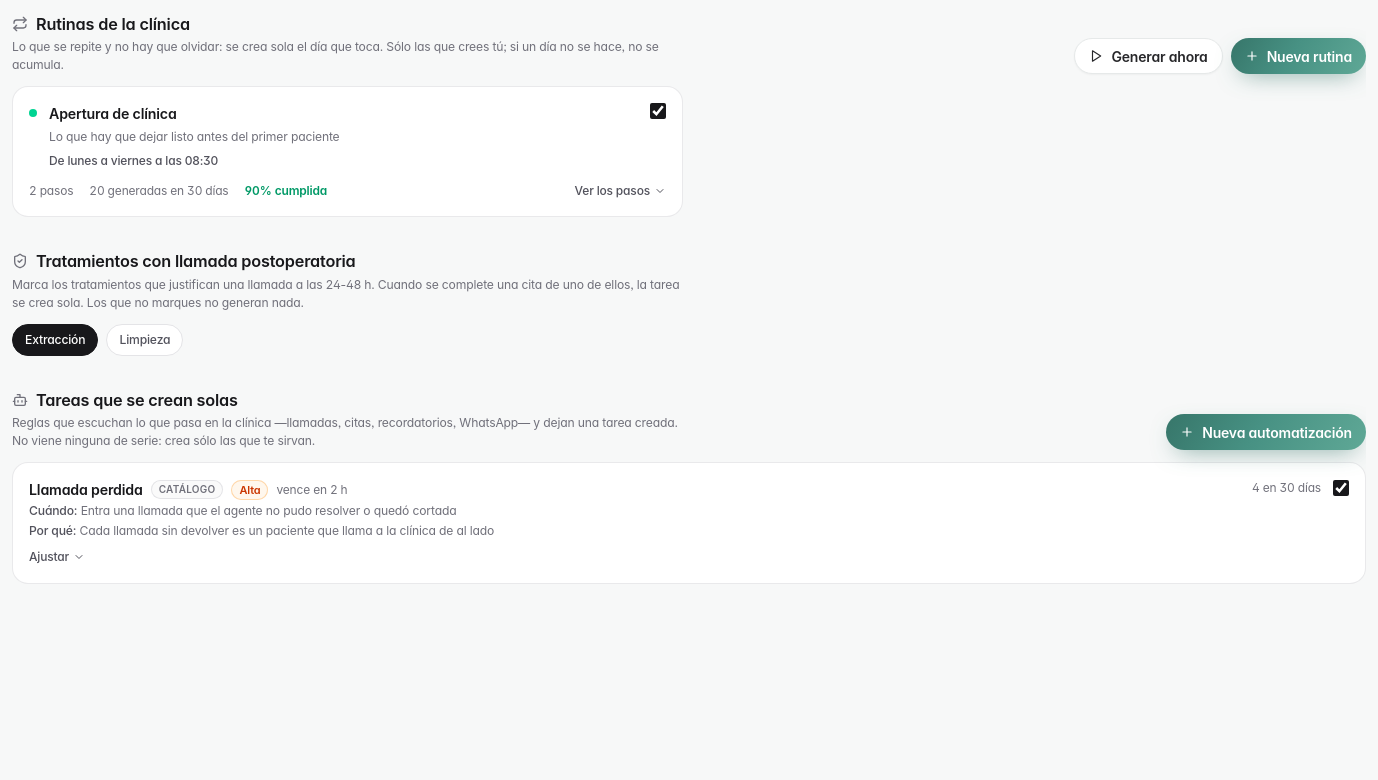
Test: RoutinesView — tratamientos postoperatorios › activar uno manda el PATCH y pinta el cambio al instante
This screenshot has width=1378, height=780.
What coordinates should you click on to do the following:
click the 2nd checkbox labelled "Limpieza"
I would click on:
 (145, 340)
Its box is [106, 324, 183, 356].
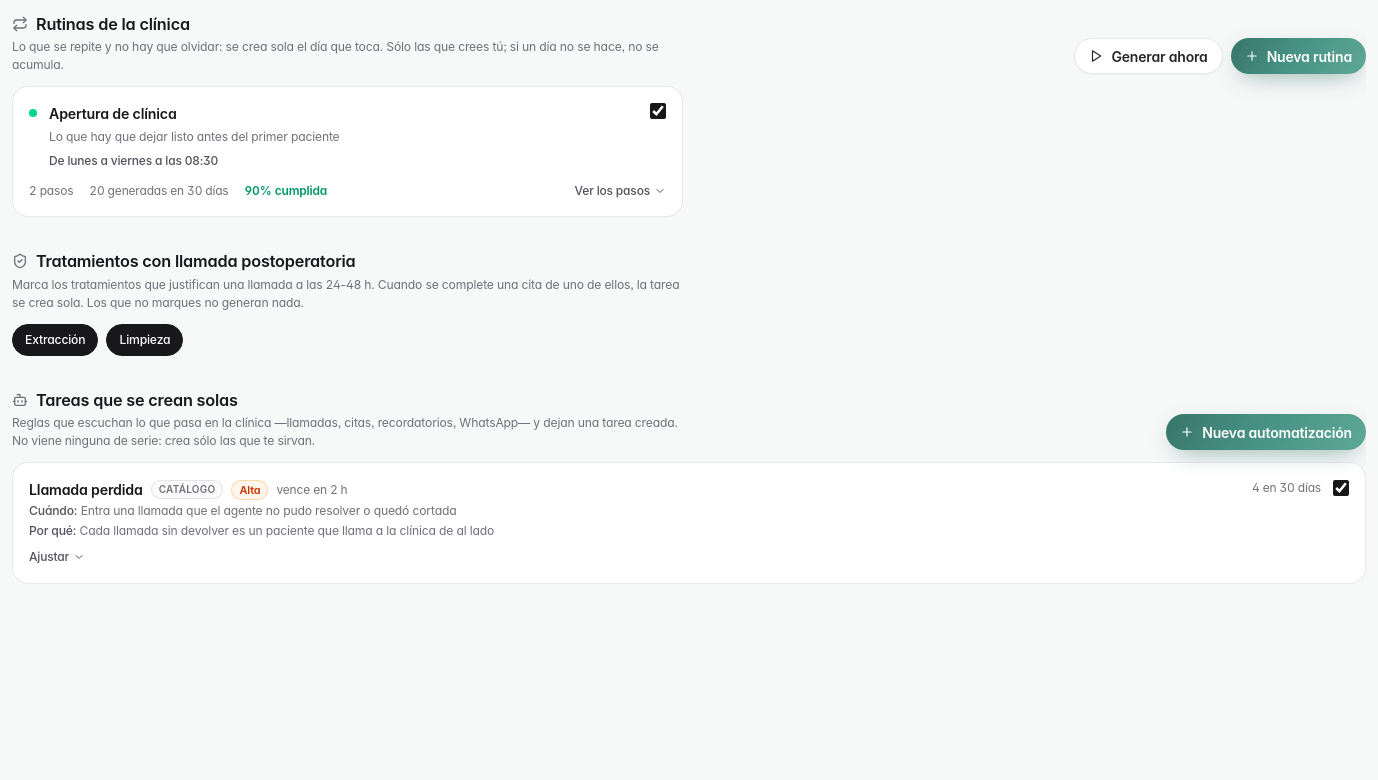
expect the 2nd checkbox labelled "Limpieza" is checked: met, box [106, 324, 183, 356]
